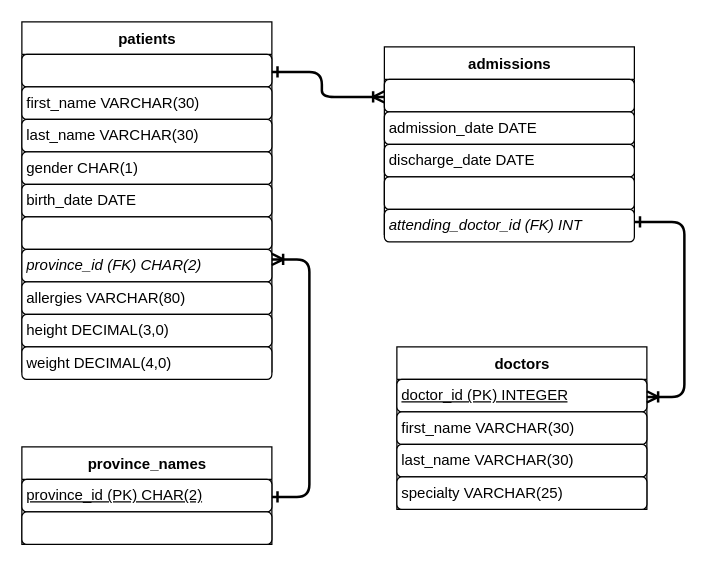
The diagram is 719 pixels wide and 566 high, and some of its shapes have lost their labels. Each missing label, with the centre of its shape:
"city VARCHAR(30)" belongs at point (146, 232).
"diagnosis VARCHAR(50)" belongs at point (508, 192).
"patient_id (FK) INT" belongs at point (508, 95).
"patient_id (PK) INTEGER" belongs at point (146, 70).
"province_name VARCHAR(30)" belongs at point (146, 527).
